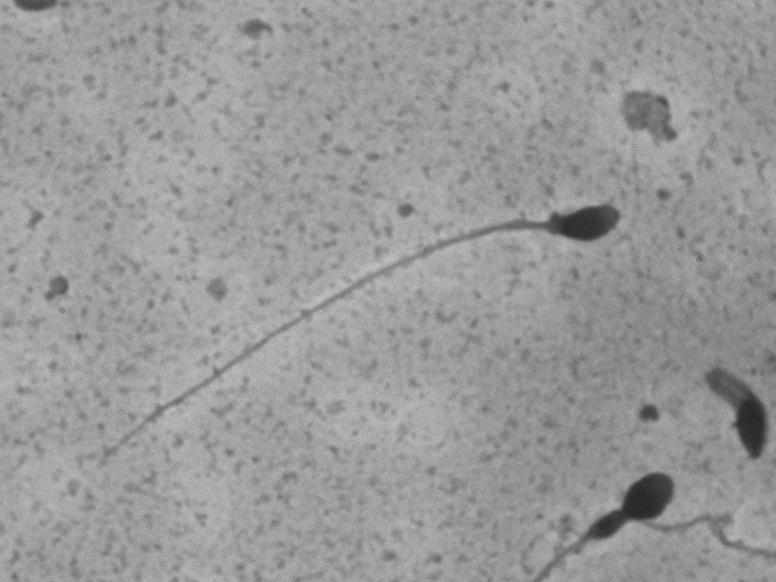Abnormal: (115, 136, 631, 454), (563, 453, 690, 579)
